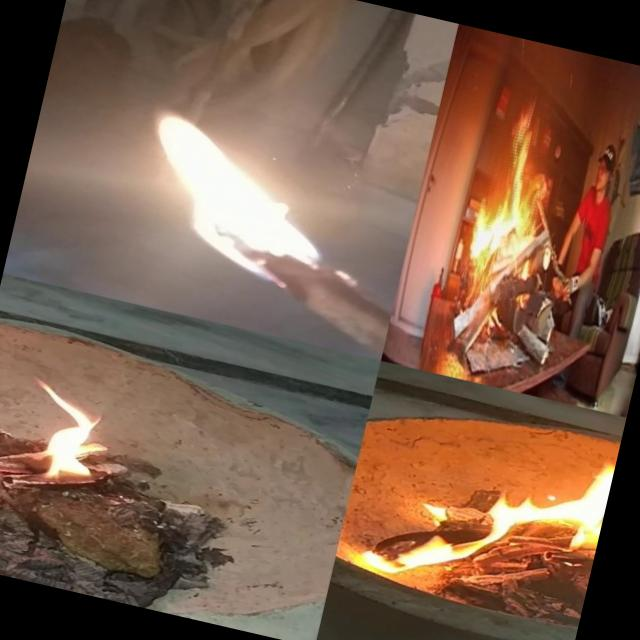fire: (354, 410, 616, 616), (106, 96, 352, 296), (452, 127, 574, 315), (4, 373, 150, 505)
